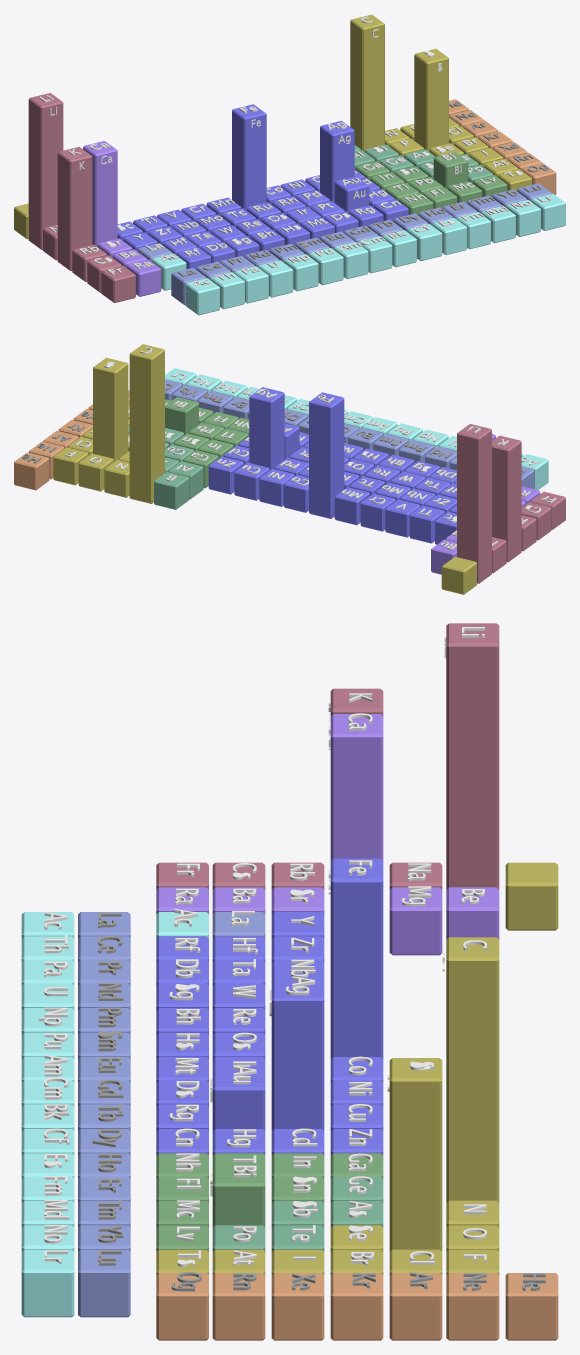
Rendered from PeriodicTable_Expanded.fbx.
3 renders of one model, top to bottom at view 1: azimuth 30°, elevation 25°; view 2: azimuth 150°, elevation 25°; view 3: azimuth 270°, elevation 25°, orthographic. The views are drawn at different scales.
Parts seen in each view (by area): view 1: Li_geo, C_geo, K_geo, Fe_geo, S_geo, Ca_mesh, Ag_geo, Fr_geo, Ac_geo, Bi_geo, Au_geo, Pu_geo (+35 smaller); view 2: C_geo, Li_geo, Fe_geo, S_geo, K_geo, Ag_geo, H_geo, pCube23, He_geo, Bi_geo, O_geo, F_geo (+48 smaller); view 3: C_geo, Li_geo, Fe_geo, S_geo, Ag_geo, Ca_mesh, H_geo, Lr_geo, Kr_geo, Lu_geo, Ar_geo, Xe_geo (+89 smaller).
Boxes of the visible parts, bbox=[...] form: Li_geo: bbox=[28, 93, 63, 249]; C_geo: bbox=[350, 14, 384, 151]; K_geo: bbox=[57, 146, 92, 270]; Fe_geo: bbox=[232, 104, 266, 210]; S_geo: bbox=[414, 48, 448, 151]; Ca_mesh: bbox=[83, 141, 117, 246]; Ag_geo: bbox=[320, 121, 354, 202]; Fr_geo: bbox=[101, 265, 135, 302]; Ac_geo: bbox=[185, 278, 219, 315]; Bi_geo: bbox=[433, 152, 468, 188]; Au_geo: bbox=[334, 176, 369, 213]; Pu_geo: bbox=[309, 248, 343, 285]; C_geo: bbox=[129, 344, 164, 503]; Li_geo: bbox=[457, 424, 491, 583]; Fe_geo: bbox=[309, 392, 344, 518]; S_geo: bbox=[93, 357, 128, 461]; K_geo: bbox=[492, 435, 521, 562]; Ag_geo: bbox=[249, 387, 284, 470]; H_geo: bbox=[441, 556, 476, 594]; pCube23: bbox=[154, 472, 189, 509]; He_geo: bbox=[14, 452, 49, 490]; Bi_geo: bbox=[165, 397, 198, 435]; O_geo: bbox=[78, 453, 113, 491]; F_geo: bbox=[53, 447, 88, 485]; C_geo: bbox=[446, 937, 499, 1202]; Li_geo: bbox=[446, 623, 499, 889]; Fe_geo: bbox=[330, 858, 383, 1058]; S_geo: bbox=[389, 1058, 442, 1251]; Ag_geo: bbox=[271, 977, 324, 1130]; Ca_mesh: bbox=[330, 714, 383, 860]; H_geo: bbox=[505, 862, 558, 930]; Lr_geo: bbox=[21, 1249, 74, 1317]; Kr_geo: bbox=[330, 1273, 383, 1340]; Lu_geo: bbox=[78, 1249, 130, 1317]; Ar_geo: bbox=[389, 1273, 442, 1340]; Xe_geo: bbox=[271, 1273, 324, 1340].
Size of the model in its own units: 48.56 by 15.18 by 25.46.
